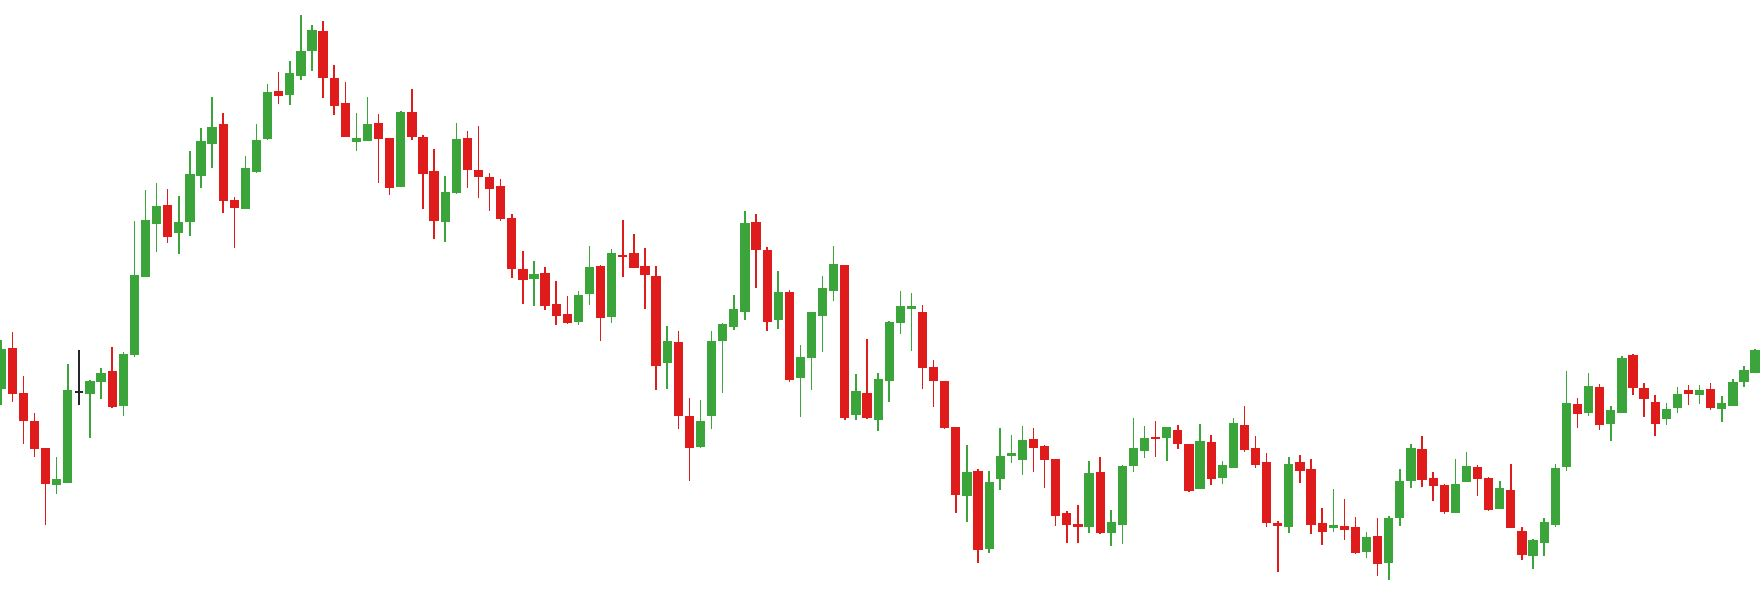buy: (1106, 468, 1284, 574)
sell: (617, 215, 762, 335)
